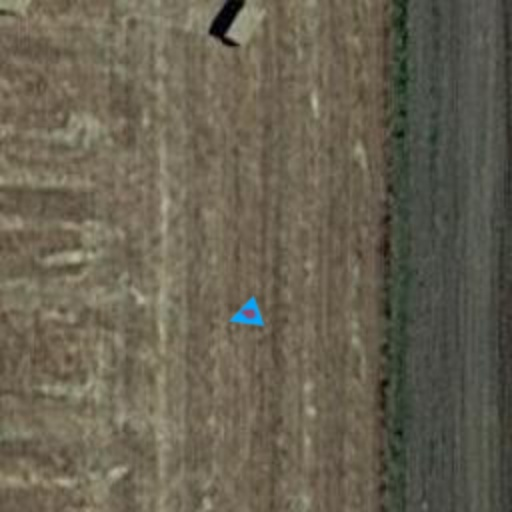triangle: (222, 294, 266, 338)
